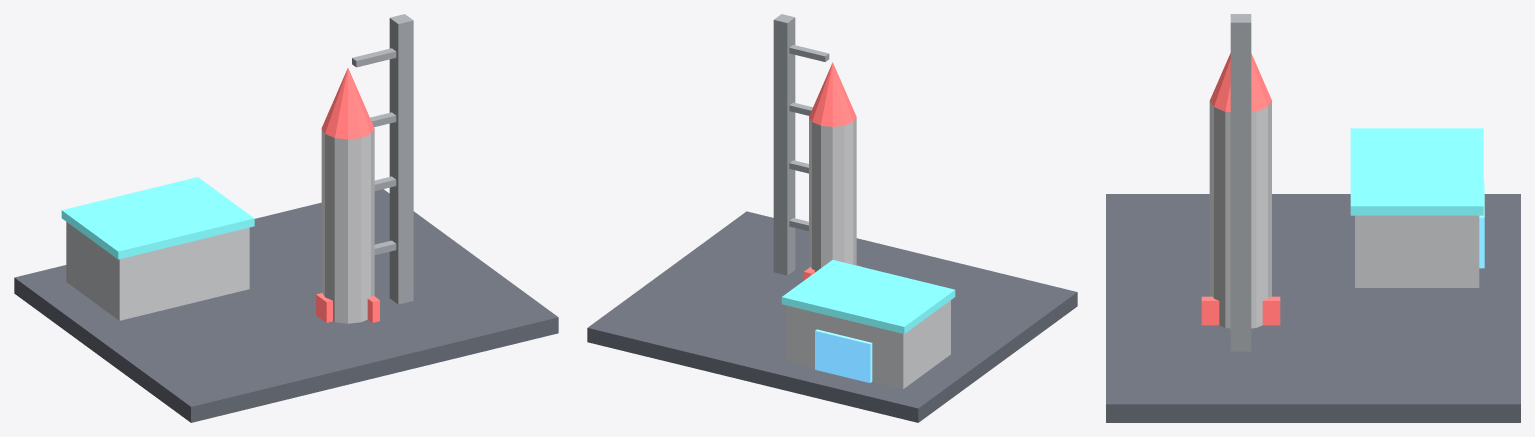
Rendered from space_center.glb.
The picture shows the model from 3 angles, left to right: view 1: azimuth 30°, elevation 25°; view 2: azimuth 150°, elevation 25°; view 3: azimuth 270°, elevation 25°; orthographic projection. The views are drawn at different scales.
Visible parts, largest first — view 1: space_center; view 2: space_center; view 3: space_center.
Boxes of the visible parts, x1,y1,x2,y2 form: space_center: (14,14,558,422); space_center: (587,14,1077,422); space_center: (1106,14,1520,422).
Bounding box in the file's own units: 2.4 × 1.85 × 2.
